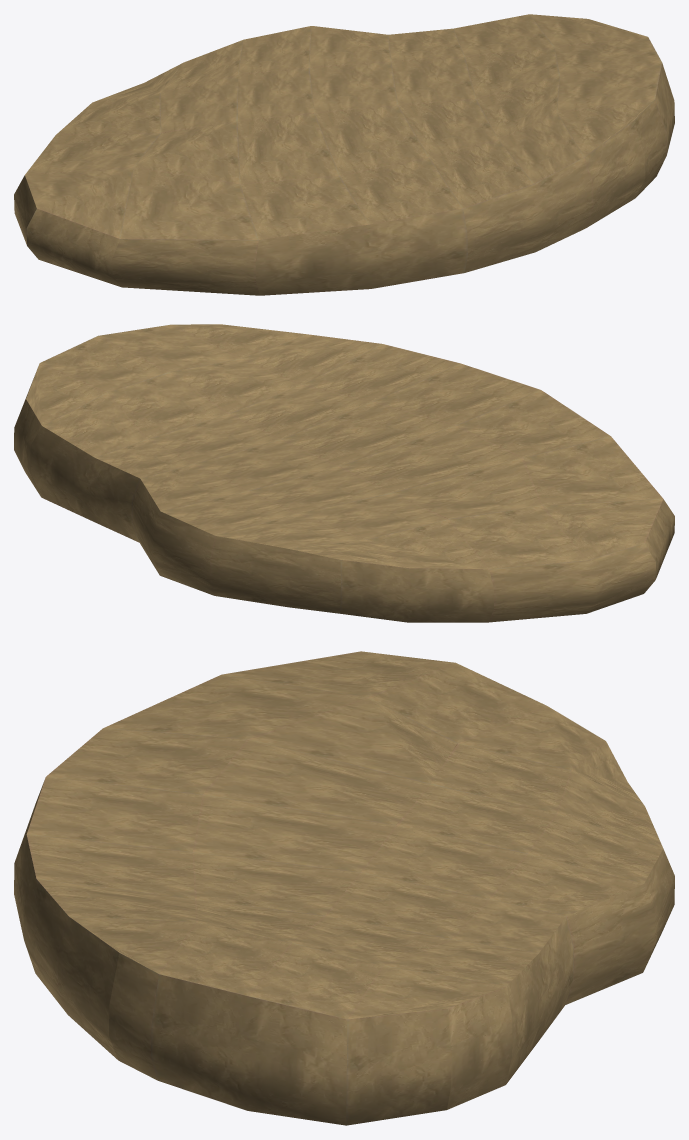
Rendered from ground-platform-01.glb.
3 views of the same model, one above another, from view 1: azimuth 30°, elevation 25°; view 2: azimuth 150°, elevation 25°; view 3: azimuth 270°, elevation 25° (orthographic). The views are drawn at different scales.
Parts seen in each view (by area): view 1: GroundPlatform01; view 2: GroundPlatform01; view 3: GroundPlatform01.
Part boxes in pixels (bbox=[...]): GroundPlatform01: bbox=[14, 14, 674, 295]; GroundPlatform01: bbox=[14, 324, 674, 622]; GroundPlatform01: bbox=[14, 651, 674, 1125].
Bounding box in the file's own units: 36.32 × 4.66 × 24.12.
Materials: 1 (1 with a texture image).
